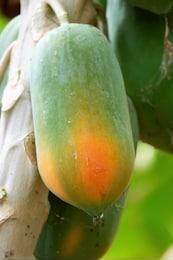papaya: (31, 22, 136, 223)
